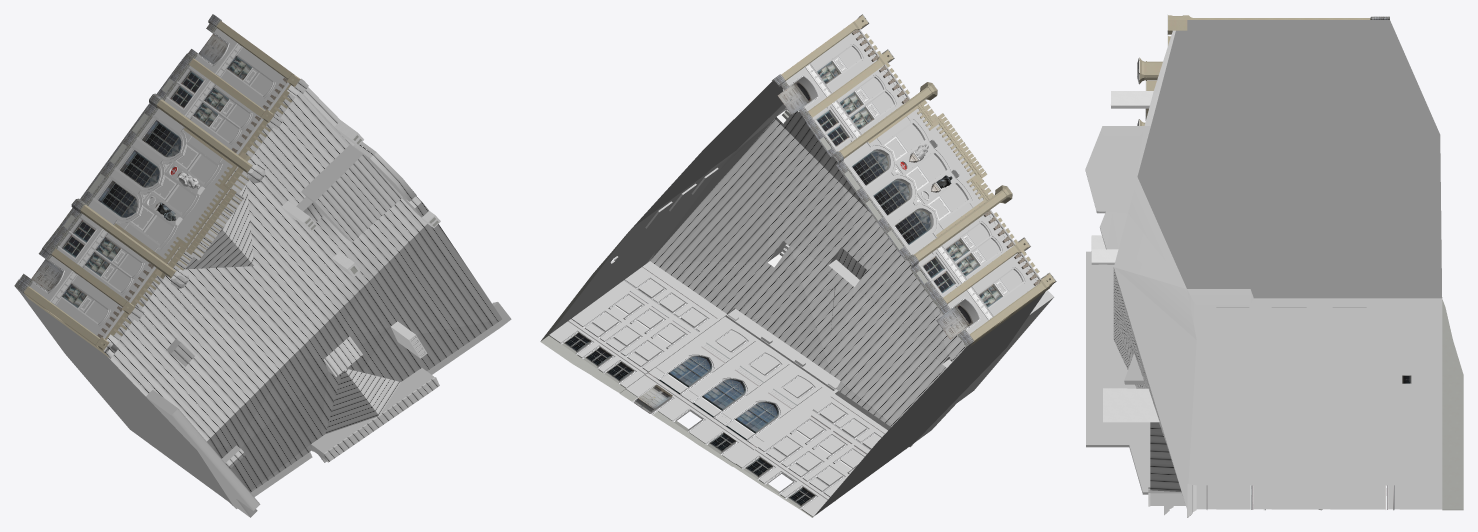
File: Pikk_20.obj
The picture shows the model from 3 angles, left to right: view 1: azimuth 30°, elevation 25°; view 2: azimuth 150°, elevation 25°; view 3: azimuth 270°, elevation 25°; orthographic projection. The views are drawn at different scales.
Parts seen in each view (by area): view 1: Pikk_20; view 2: Pikk_20; view 3: Pikk_20.
Part boxes in pixels (bbox=[...]): Pikk_20: bbox=[14, 14, 511, 517]; Pikk_20: bbox=[540, 14, 1056, 517]; Pikk_20: bbox=[1085, 14, 1463, 517].
Bounding box in the file's own units: 39.83 × 38.63 × 25.3.
